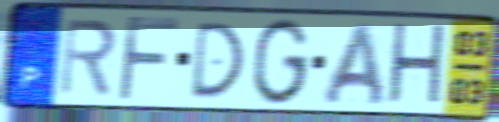A: (318, 20, 388, 108)
D: (187, 20, 247, 101)
F: (114, 13, 182, 104)
G: (249, 17, 313, 108)
H: (384, 21, 448, 111)
R: (57, 16, 120, 98)
